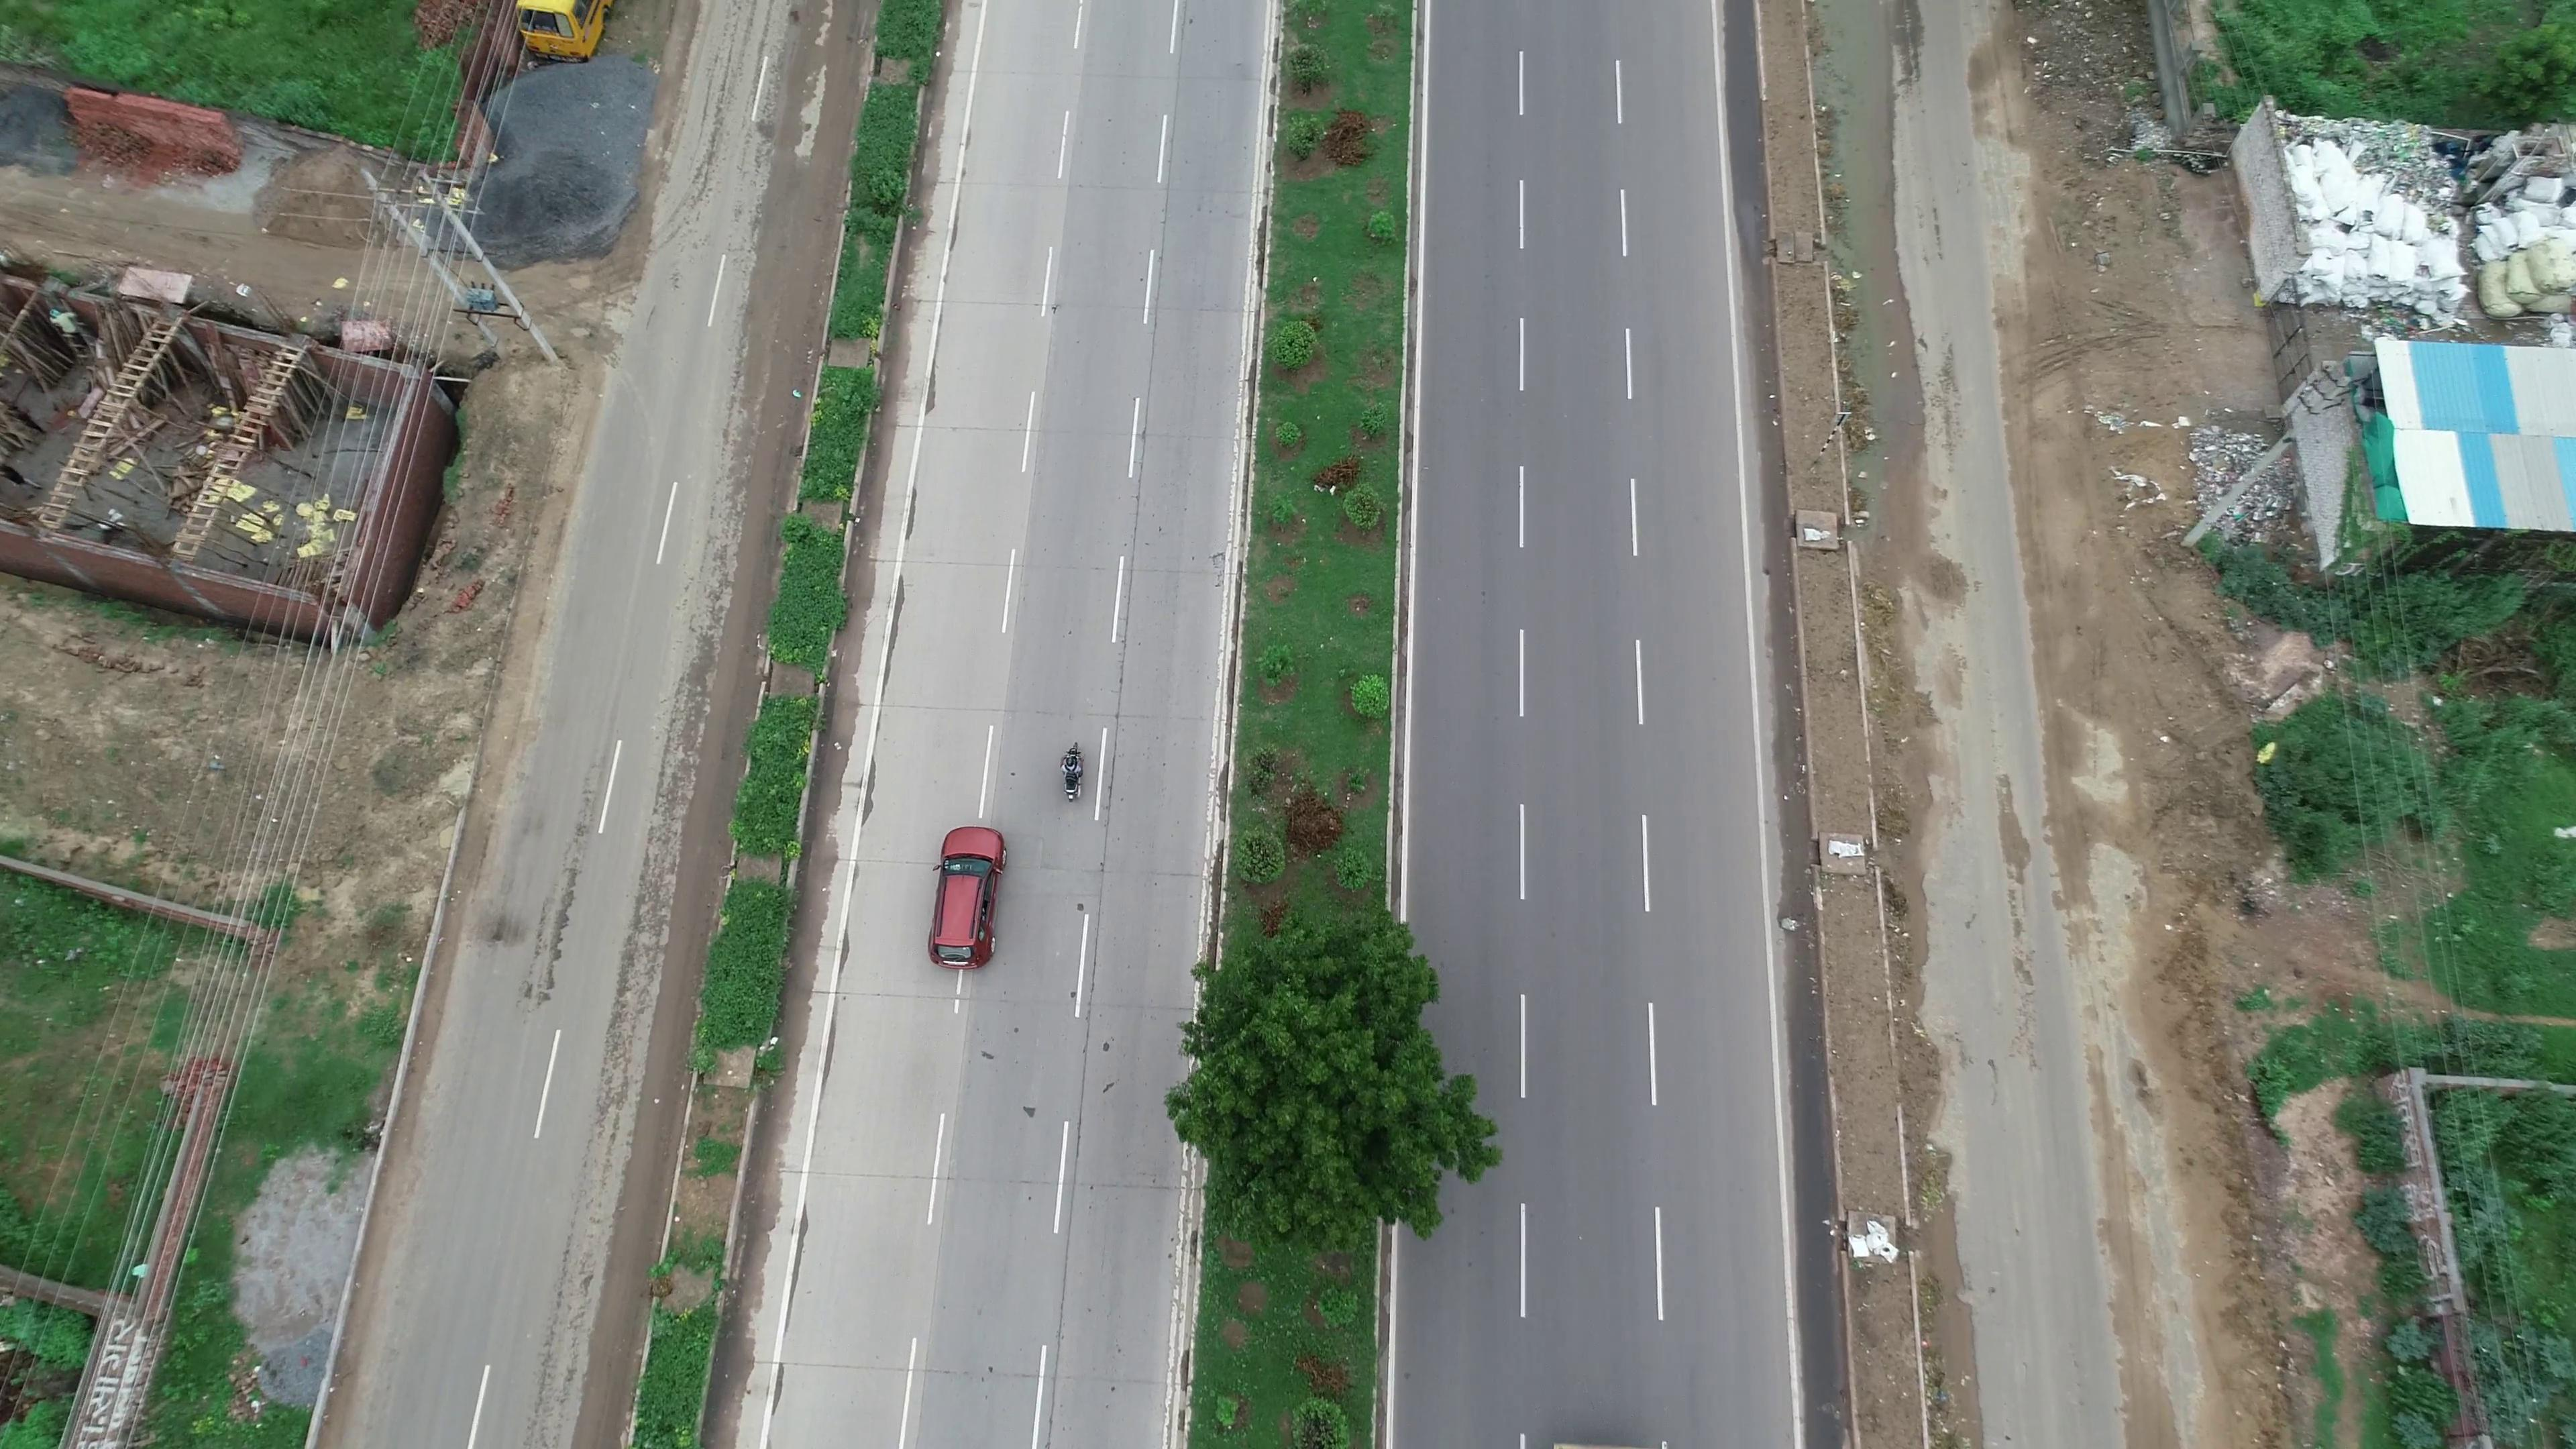Muddy_road: (1992, 297, 2127, 807)
